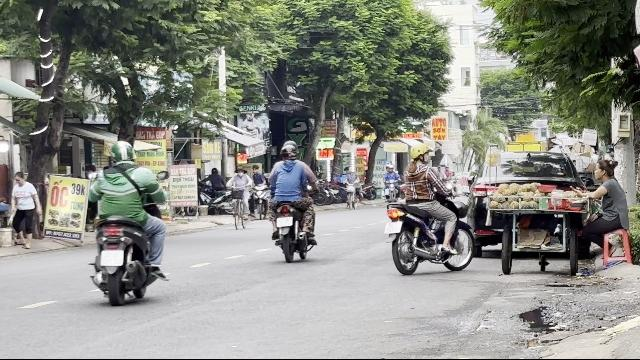helmet: (110, 140, 134, 164), (408, 140, 429, 164), (280, 140, 300, 160)
licenseplate: (100, 250, 124, 266), (384, 221, 402, 233), (276, 217, 292, 227)
motorcyclist: (84, 138, 168, 306), (382, 138, 472, 276), (264, 140, 320, 261)
